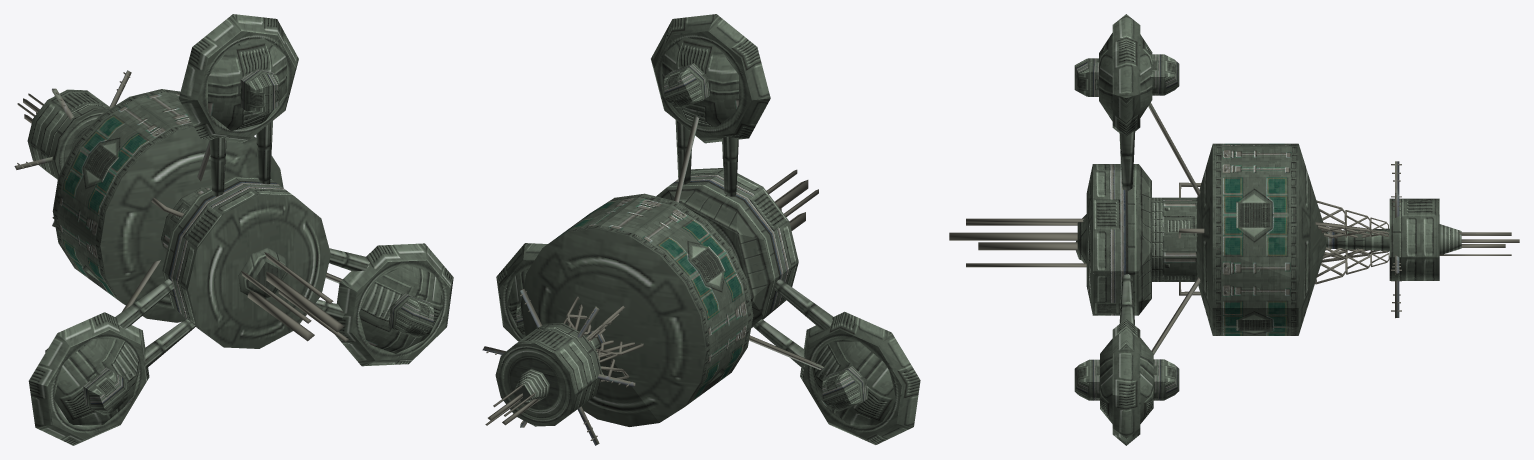
Rendered from tygokorBM3.fbx.
The picture shows the model from 3 angles, left to right: view 1: azimuth 30°, elevation 25°; view 2: azimuth 150°, elevation 25°; view 3: azimuth 270°, elevation 25°; orthographic projection. The views are drawn at different scales.
Visible parts, largest first — view 1: tygokor:7, tygokor:8, tygokor:10, tygokor:9, tygokor:3, tygokor:16, tygokor:15; view 2: tygokor:7, tygokor:8, tygokor:9, tygokor:10, tygokor:16, tygokor:15, tygokor:3; view 3: tygokor:10, tygokor:8, tygokor:9, tygokor:15, tygokor:7, tygokor:16, tygokor:3.
Part boxes in pixels (left/top/right/bottom): tygokor:7: left=47, top=31, right=450, bottom=439; tygokor:8: left=28, top=14, right=453, bottom=445; tygokor:10: left=52, top=89, right=256, bottom=302; tygokor:9: left=14, top=70, right=294, bottom=345; tygokor:3: left=54, top=38, right=286, bottom=424; tygokor:16: left=45, top=68, right=433, bottom=415; tygokor:15: left=17, top=72, right=348, bottom=342; tygokor:7: left=495, top=31, right=901, bottom=438; tygokor:8: left=496, top=14, right=920, bottom=444; tygokor:9: left=482, top=168, right=798, bottom=445; tygokor:10: left=544, top=193, right=753, bottom=406; tygokor:16: left=516, top=63, right=868, bottom=411; tygokor:15: left=485, top=169, right=818, bottom=440; tygokor:3: left=506, top=269, right=528, bottom=337; tygokor:10: left=1212, top=143, right=1298, bottom=335; tygokor:8: left=1077, top=14, right=1461, bottom=445; tygokor:9: left=1093, top=161, right=1439, bottom=318; tygokor:15: left=949, top=164, right=1519, bottom=311; tygokor:7: left=1086, top=144, right=1326, bottom=334; tygokor:16: left=1074, top=54, right=1179, bottom=400; tygokor:3: left=1099, top=33, right=1153, bottom=423.
Size of the model in its own units: 2325 by 2055 by 2995.
